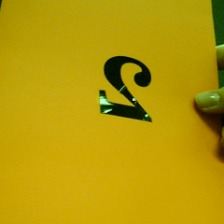orange2: (93, 53, 163, 131)
